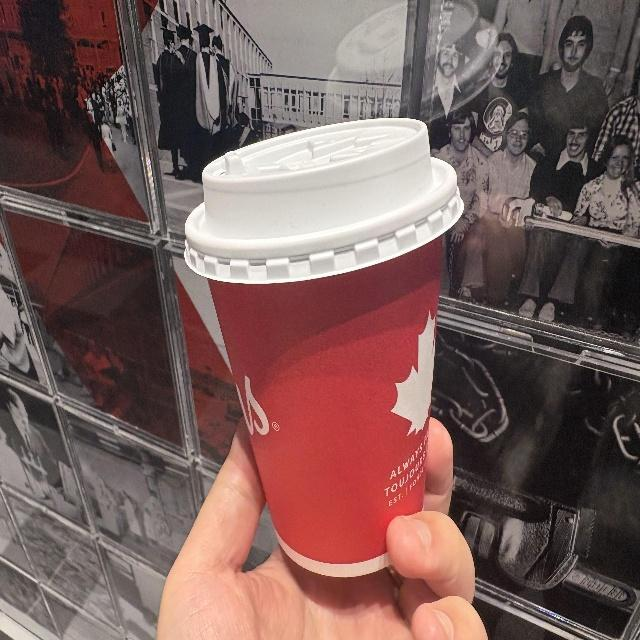timmies: (181, 114, 468, 580)
